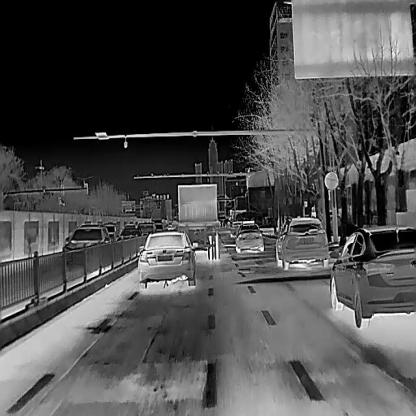car: (329, 226, 415, 327), (136, 228, 196, 288), (274, 215, 328, 269), (61, 225, 110, 255), (234, 222, 264, 252), (115, 223, 141, 243), (138, 221, 155, 232)
truck: (176, 183, 220, 259)
